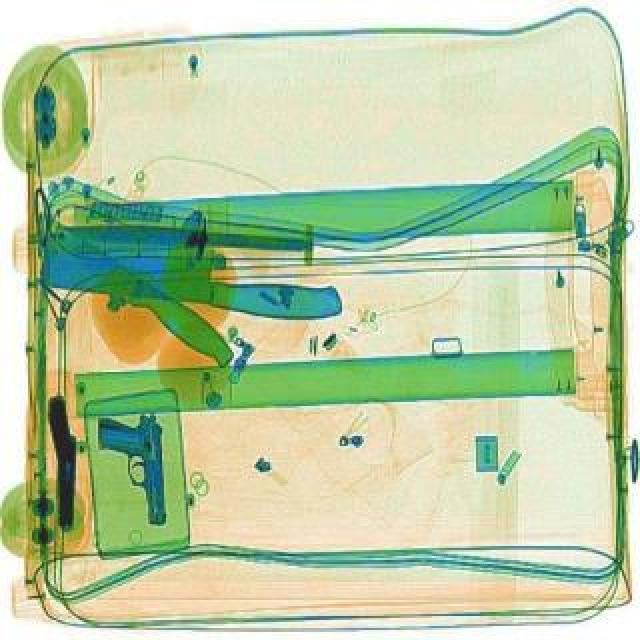gun: (96, 412, 164, 526), (44, 394, 84, 532)
knife: (26, 198, 242, 372), (38, 234, 346, 318), (62, 218, 304, 254)
